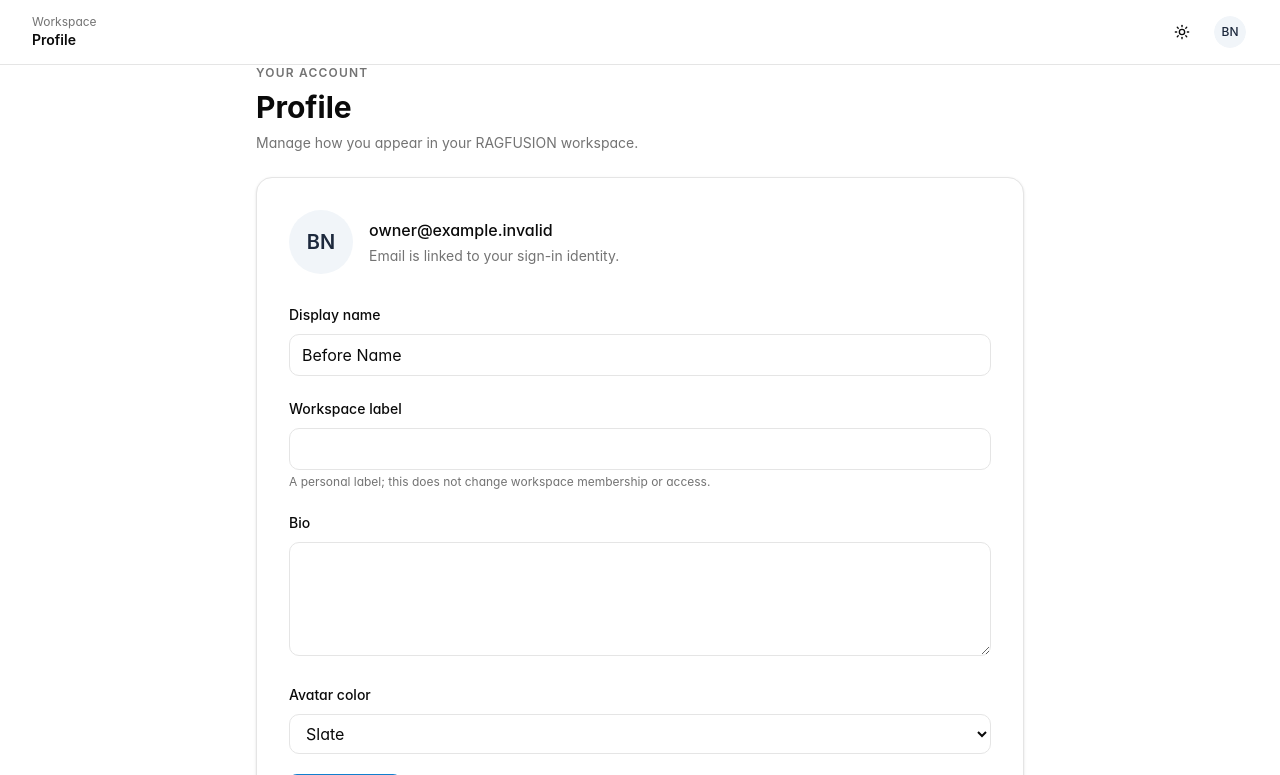
it: profile saves through the API and updates header initials without a session reset
This screenshot has width=1280, height=775.
Replace the text in the field labelled "Display name" with "Ada Stone" at (640, 355), box [289, 334, 991, 376]
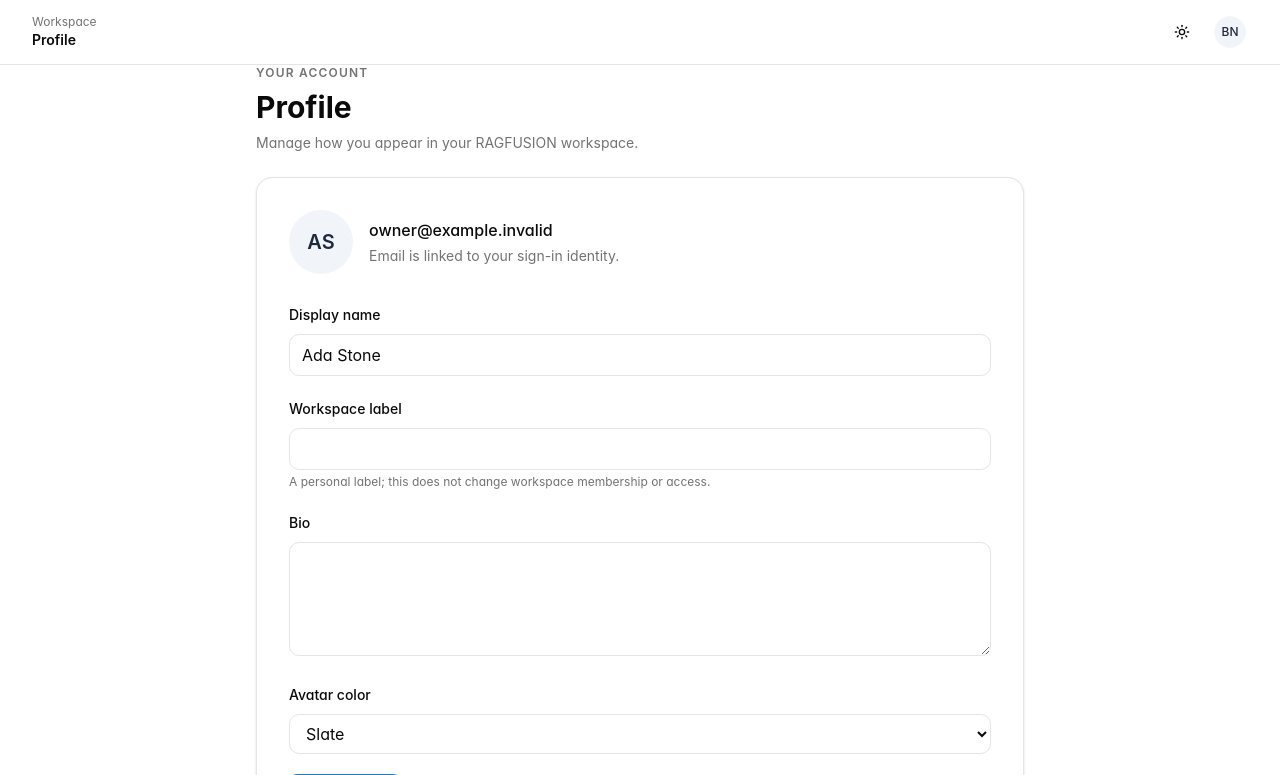
Type "Researcher" into the text box labelled "Bio" at (640, 599), box [289, 542, 991, 656]
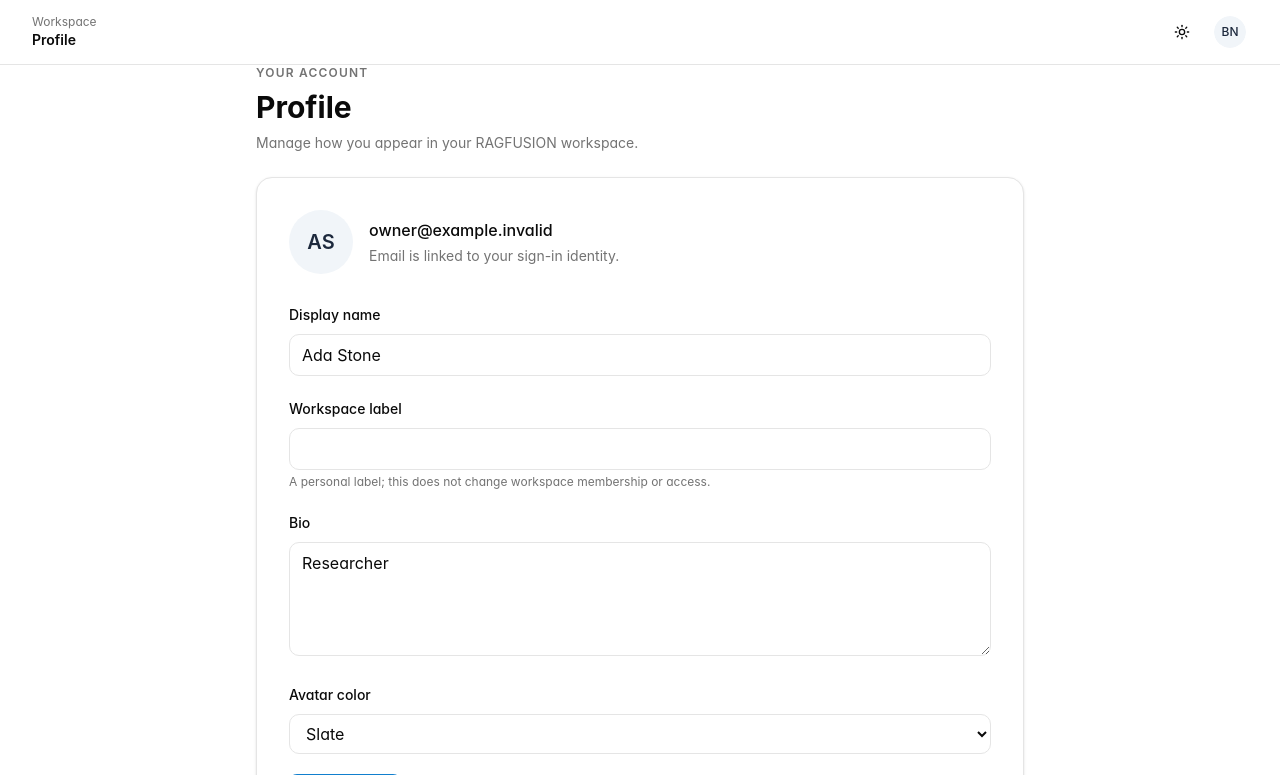
Type "Ocean" into the field labelled "Workspace label" at (640, 449), box [289, 428, 991, 470]
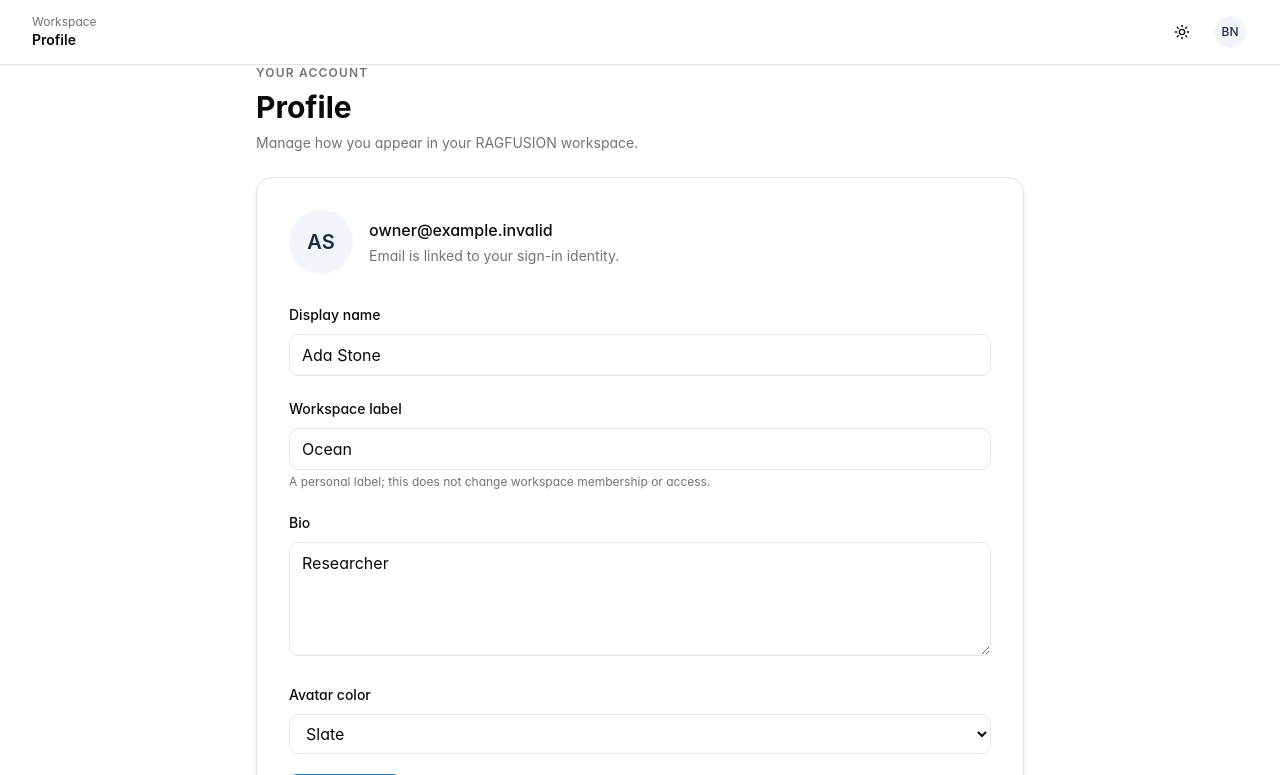
Select "Indigo" in the dropdown labelled "Avatar color" at (640, 734), box [289, 714, 991, 754]
(page scrolled)
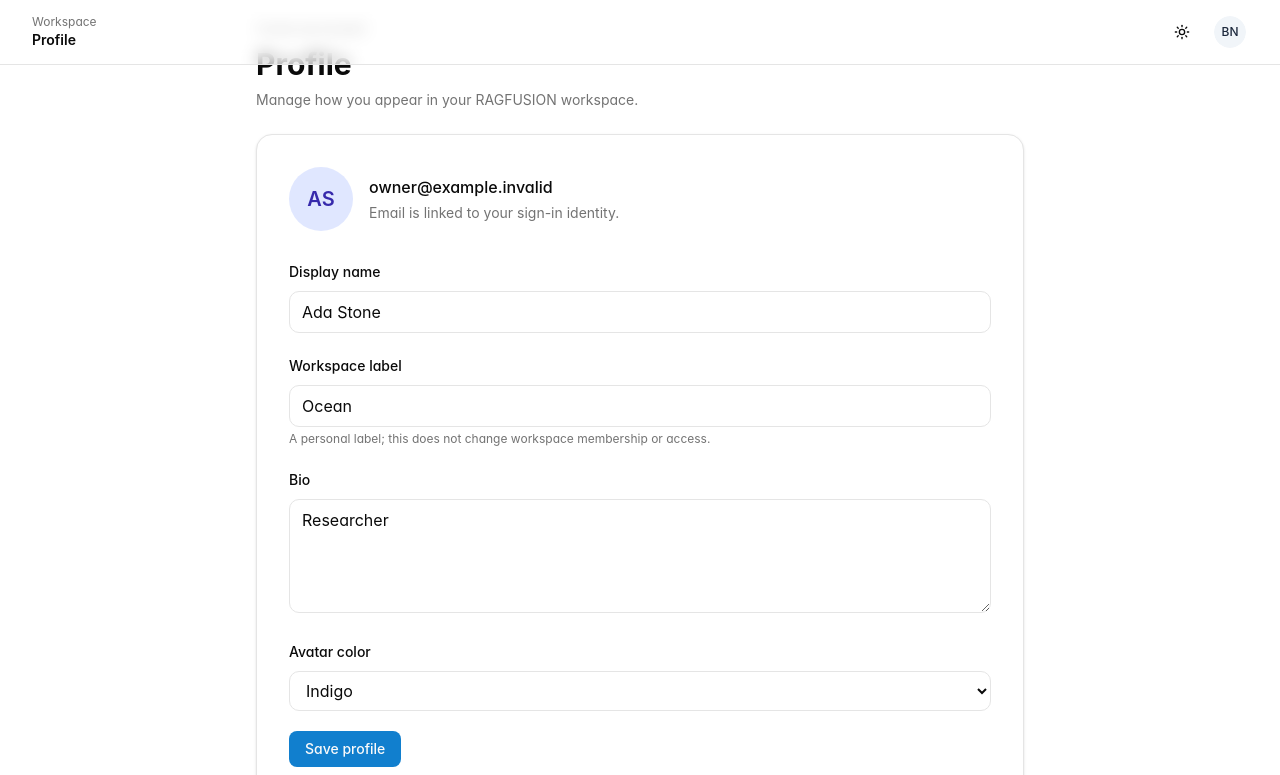
Click the button "Save profile" at (345, 749), box [289, 731, 401, 767]
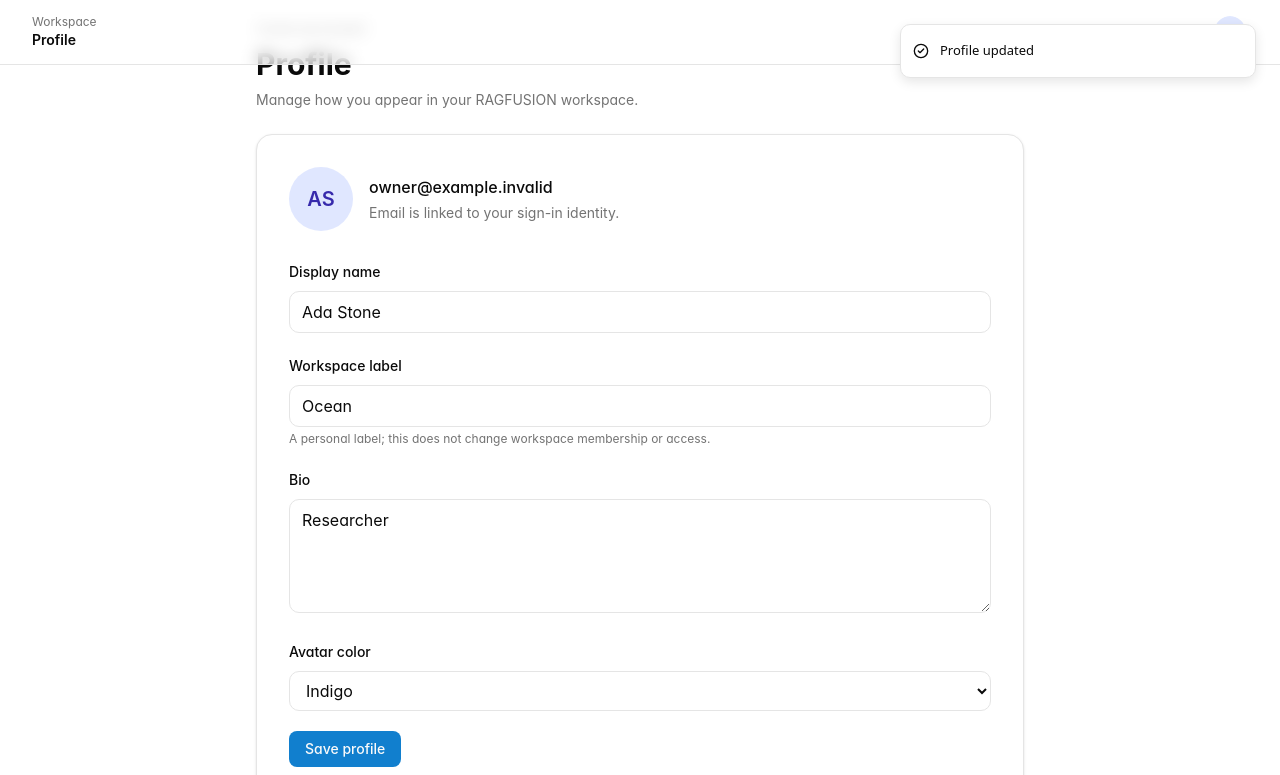
Result: the button with aria-label "User menu" reads "AS" at [1212, 14, 1248, 50]
